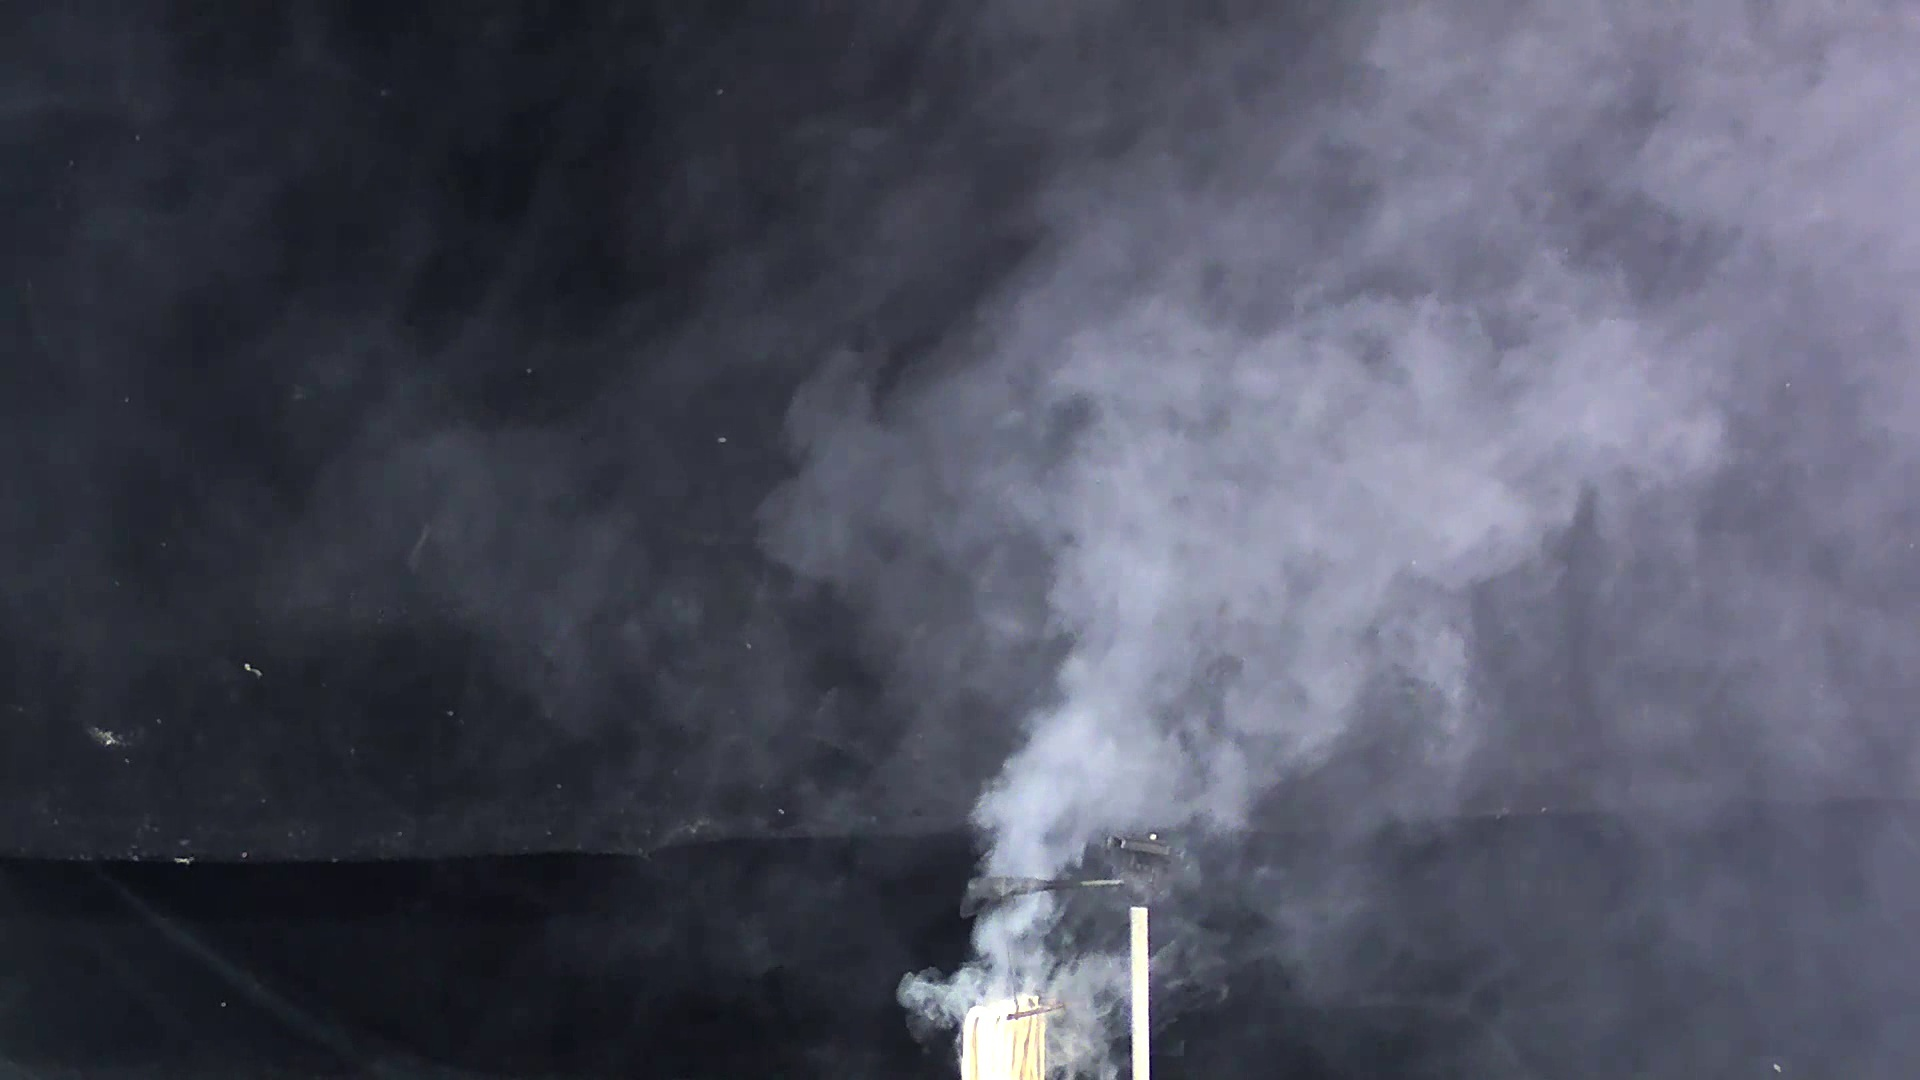smoke: (761, 228, 1673, 1022)
